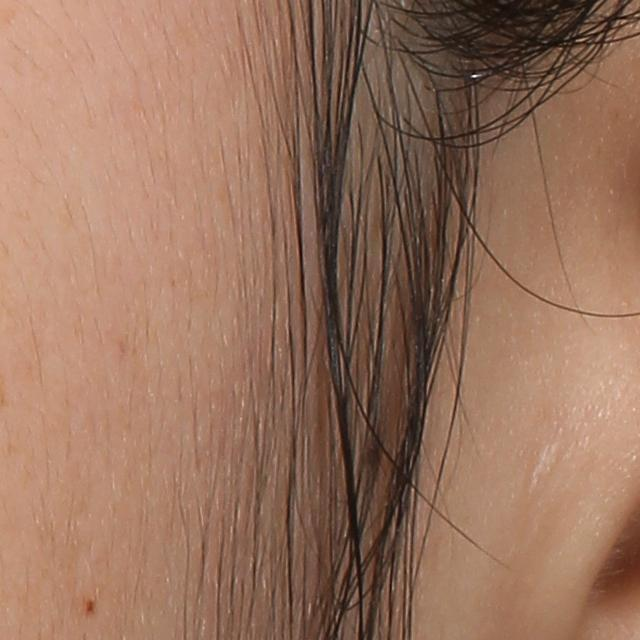nevus: (84, 596, 94, 623)
